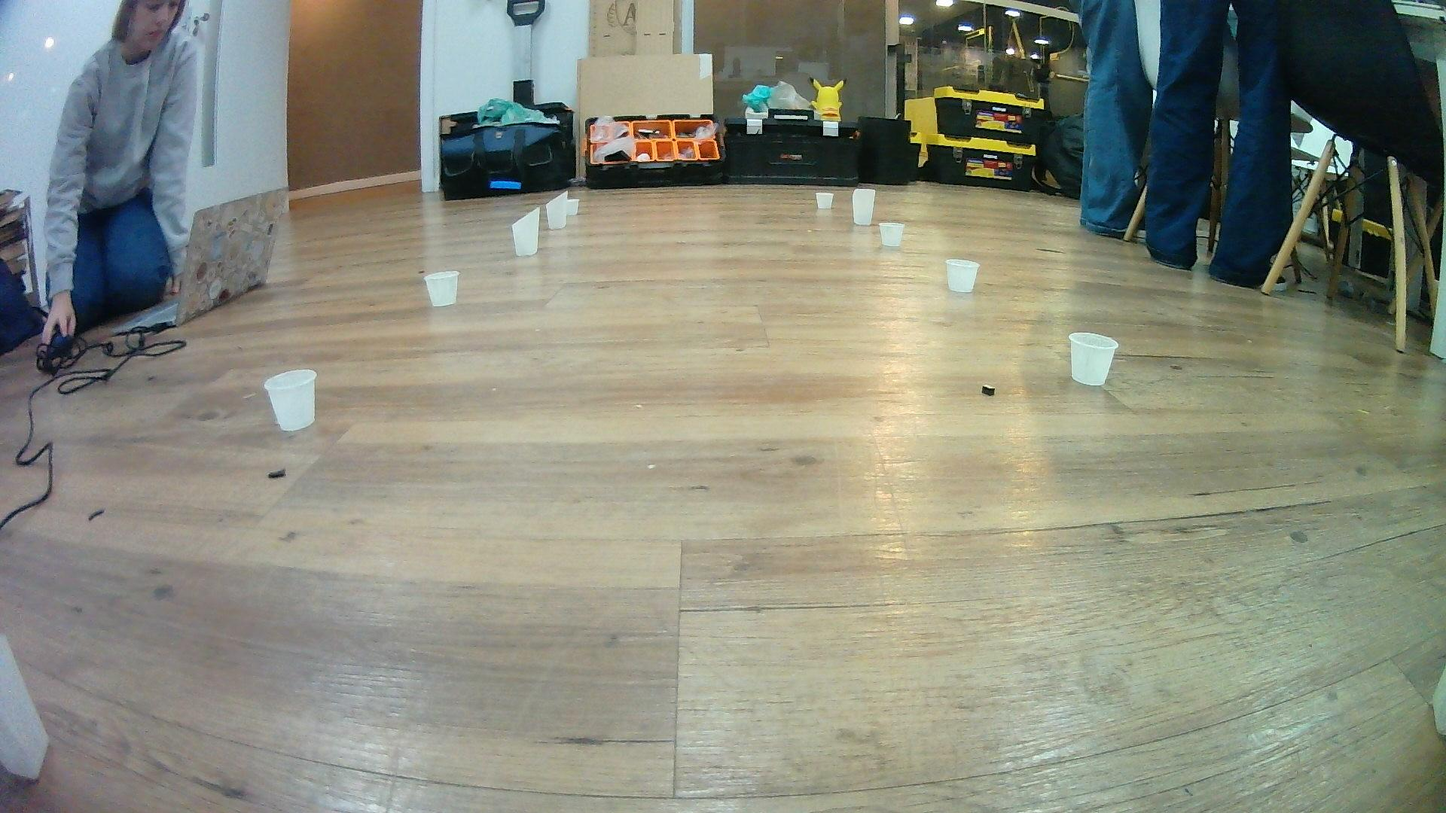erva_daninha: (511, 207, 540, 257), (851, 187, 876, 226), (545, 190, 569, 230)
planta: (263, 369, 318, 432), (1067, 331, 1120, 387), (424, 270, 461, 307), (945, 258, 980, 294), (879, 221, 905, 248), (563, 199, 580, 218), (815, 192, 834, 209)
